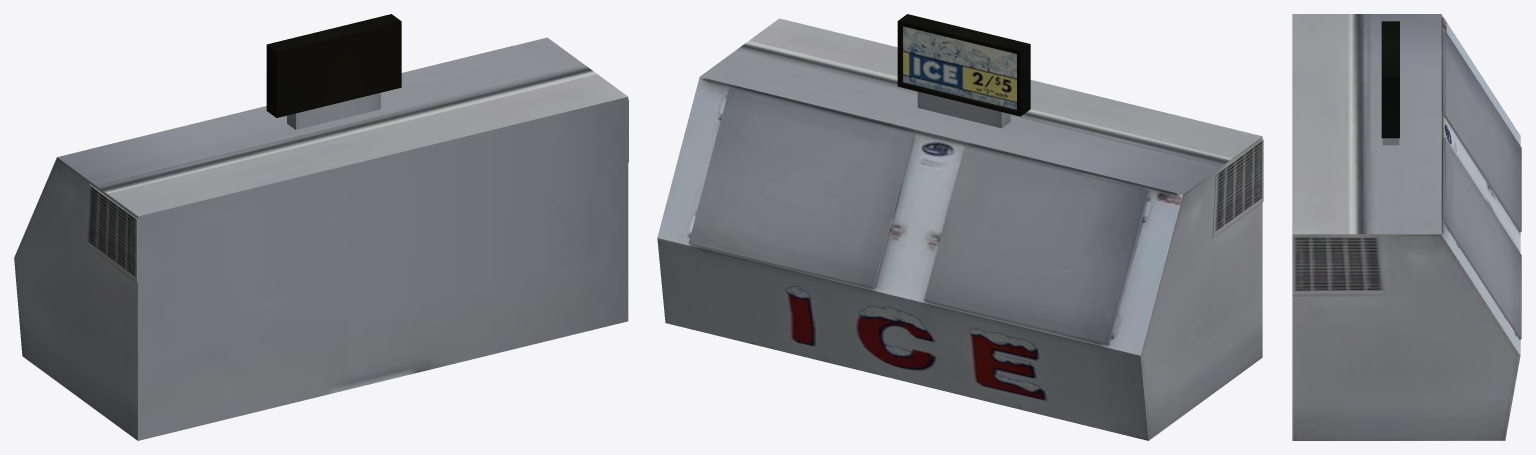
Rendered from ice-machine.lod1.glb.
The picture shows the model from 3 angles, left to right: view 1: azimuth 30°, elevation 25°; view 2: azimuth 150°, elevation 25°; view 3: azimuth 270°, elevation 25°; orthographic projection. The views are drawn at different scales.
Visible parts, largest first — view 1: ice_machine2_ice_machine_bse_0; view 2: ice_machine2_ice_machine_bse_0; view 3: ice_machine2_ice_machine_bse_0.
Part boxes in pixels (<box>): ice_machine2_ice_machine_bse_0: <box>14,14,628,440</box>; ice_machine2_ice_machine_bse_0: <box>657,14,1263,440</box>; ice_machine2_ice_machine_bse_0: <box>1292,14,1521,440</box>.
Bounding box in the file's own units: 2.78 × 1.66 × 1.22.
Materials: 1 (1 with a texture image).
